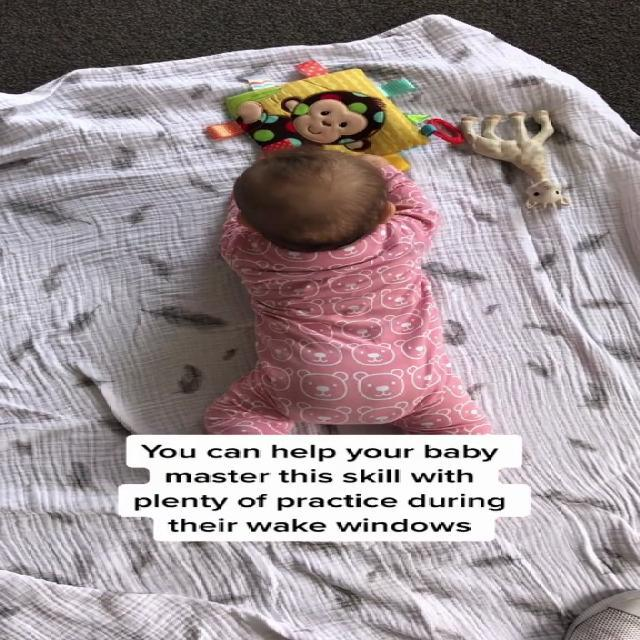baby: (158, 140, 494, 440)
